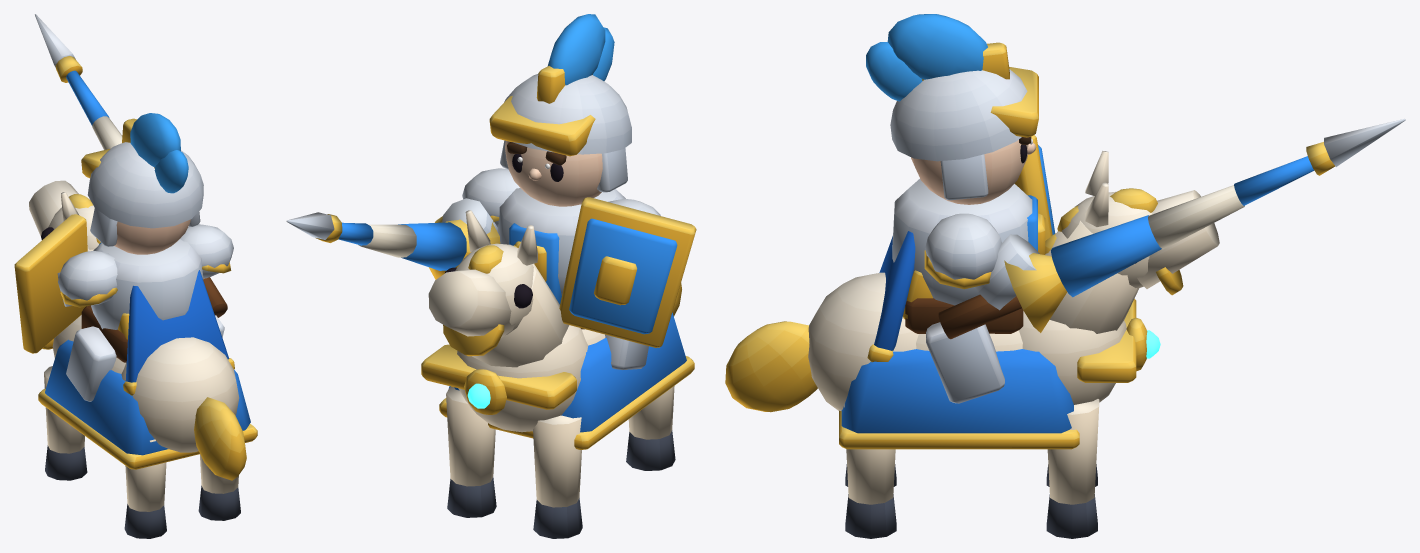
The model's file is unit-knight.glb.
3 renders of one model, left to right at view 1: azimuth 30°, elevation 25°; view 2: azimuth 150°, elevation 25°; view 3: azimuth 270°, elevation 25°, orthographic. The views are drawn at different scales.
Parts seen in each view (by area): view 1: Anim_MountBody, Anim_Body, Anim_Head, Anim_ArmL, Anim_Cape, Anim_MountTail, Anim_ArmR, Anim_Plume, Anim_MountLegBL, Anim_MountHead, Anim_MountLegFL, Anim_MountLegBR; view 2: Anim_MountBody, Anim_Head, Anim_ArmL, Anim_MountHead, Anim_Body, Anim_ArmR, Anim_MountLegFL, Anim_MountLegFR, Anim_Plume, Anim_MountLegBL; view 3: Anim_MountBody, Anim_ArmR, Anim_Head, Anim_Body, Anim_MountHead, Anim_Plume, Anim_MountTail, Anim_MountLegFR, Anim_MountLegBR, Anim_Cape, Anim_ArmL.
Boxes of the visible parts, left/top/right/bottom form: Anim_MountBody: left=38, top=305, right=257, bottom=469; Anim_Body: left=58, top=224, right=233, bottom=401; Anim_Head: left=81, top=118, right=203, bottom=254; Anim_ArmL: left=14, top=214, right=87, bottom=353; Anim_Cape: left=123, top=270, right=234, bottom=395; Anim_MountTail: left=194, top=397, right=246, bottom=480; Anim_ArmR: left=35, top=14, right=227, bottom=317; Anim_Plume: left=130, top=113, right=188, bottom=193; Anim_MountLegBL: left=124, top=439, right=166, bottom=538; Anim_MountHead: left=29, top=180, right=100, bottom=251; Anim_MountLegFL: left=44, top=366, right=87, bottom=480; Anim_MountLegBR: left=198, top=454, right=240, bottom=520; Anim_MountBody: left=421, top=312, right=694, bottom=449; Anim_Head: left=489, top=66, right=631, bottom=206; Anim_ArmL: left=559, top=197, right=696, bottom=347; Anim_MountHead: left=428, top=210, right=569, bottom=367; Anim_Body: left=462, top=168, right=660, bottom=369; Anim_ArmR: left=286, top=198, right=500, bottom=279; Anim_MountLegFL: left=533, top=415, right=582, bottom=538; Anim_MountLegFR: left=446, top=386, right=496, bottom=517; Anim_Plume: left=548, top=14, right=614, bottom=85; Anim_MountLegBL: left=626, top=386, right=675, bottom=470; Anim_MountBody: left=808, top=270, right=1160, bottom=449; Anim_ArmR: left=938, top=118, right=1405, bottom=339; Anim_Head: left=890, top=42, right=1038, bottom=204; Anim_Body: left=892, top=178, right=1045, bottom=403; Anim_MountHead: left=1045, top=151, right=1219, bottom=333; Anim_Plume: left=866, top=14, right=987, bottom=101; Anim_MountTail: left=725, top=321, right=817, bottom=412; Anim_MountLegFR: left=1046, top=399, right=1099, bottom=538; Anim_MountLegBR: left=844, top=403, right=896, bottom=538; Anim_Cape: left=867, top=231, right=915, bottom=362; Anim_ArmL: left=1014, top=135, right=1055, bottom=240.
Size of the model in its own units: 1.29 by 2.2 by 2.77.
